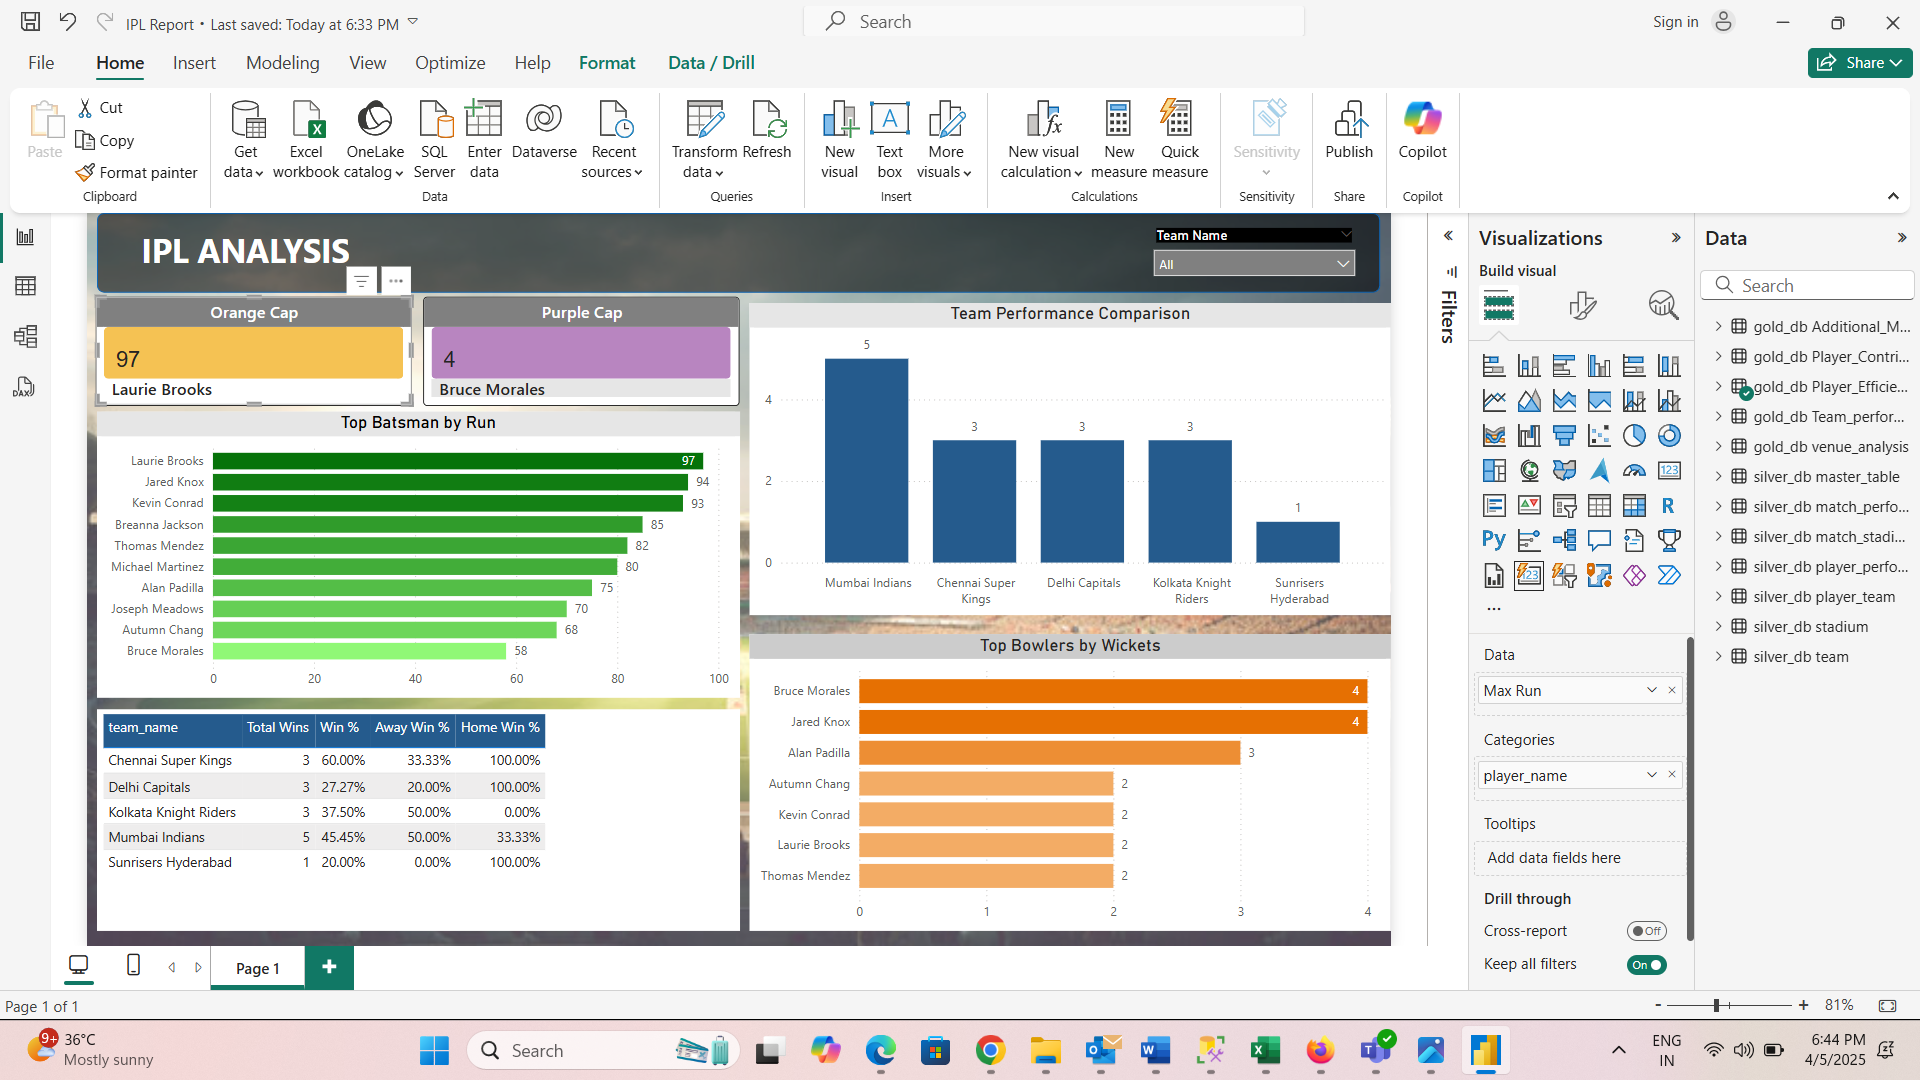

The dashboard page shown, as its layout file describes it:
{"tool":"powerbi","page":{"name":"Page 1","canvas":[1280,720],"ordinal":0},"visuals":[{"type":"shape","box":[9.6,0,1259.7,78.2],"z":0},{"type":"textbox","box":[30.2,9.6,249.7,56.3],"z":1000},{"type":"barChart","title":"Top Batsman by Run","fields":{"Category":["gold_db Player_Contribution.player_name"],"Y":["gold_db Player_Contribution.total_runs"]},"box":[9.2,195,630.9,280.9],"z":2000},{"type":"clusteredColumnChart","title":"Team Performance Comparison","fields":{"Category":["gold_db Team_performance_metrics.team_name"],"Y":["gold_db Team_performance_metrics.Wins"]},"box":[650.4,87.8,629.8,306],"z":3000},{"type":"tableEx","fields":{"Values":["gold_db Team_performance_metrics.team_name","gold_db Team_performance_metrics.Wins","gold_db Additional_Metrics.Win %","gold_db Additional_Metrics.Away Win %","gold_db Additional_Metrics.Home Win %"]},"box":[9.2,486.6,630.9,218],"z":4000},{"type":"barChart","title":"Top Bowlers by Wickets","fields":{"Category":["gold_db Player_Contribution.player_name"],"Y":["gold_db Player_Contribution.total_wickets"]},"box":[650.4,413,629.8,290.9],"z":5000},{"type":"slicer","fields":{"Values":["gold_db Team_performance_metrics.team_name"]},"box":[1037.4,9.6,218.2,56.3],"z":6000},{"type":"cardVisual","title":"Orange Cap","fields":{"Data":["gold_db Player_Efficiency_Metrics.Orange cap"],"Rows":["gold_db Player_Efficiency_Metrics.player_name"]},"box":[8.9,81.8,310,107.3],"z":7000},{"type":"cardVisual","title":"Purple Cap","fields":{"Rows":["gold_db Player_Efficiency_Metrics.player_name"],"Data":["gold_db Player_Efficiency_Metrics.Max Wicket"]},"box":[329.6,81.8,310.5,107.3],"z":8000}]}

Visuals, with their boxes on the page's 1280x720 design canvas (x1, y1, x2, y2). These are canvas units, not pixel positions in the 1920x1080 screenshot, which may show the page scaled, cropped or inside an application window:
shape: l=10, t=0, r=1269, b=78
textbox: l=30, t=10, r=280, b=66
"Top Batsman by Run" barChart: l=9, t=195, r=640, b=476
"Team Performance Comparison" clusteredColumnChart: l=650, t=88, r=1280, b=394
tableEx - gold_db Team_performance_metrics.team_name x gold_db Team_performance_metrics.Wins: l=9, t=487, r=640, b=705
"Top Bowlers by Wickets" barChart: l=650, t=413, r=1280, b=704
slicer - gold_db Team_performance_metrics.team_name: l=1037, t=10, r=1256, b=66
"Orange Cap" cardVisual: l=9, t=82, r=319, b=189
"Purple Cap" cardVisual: l=330, t=82, r=640, b=189
